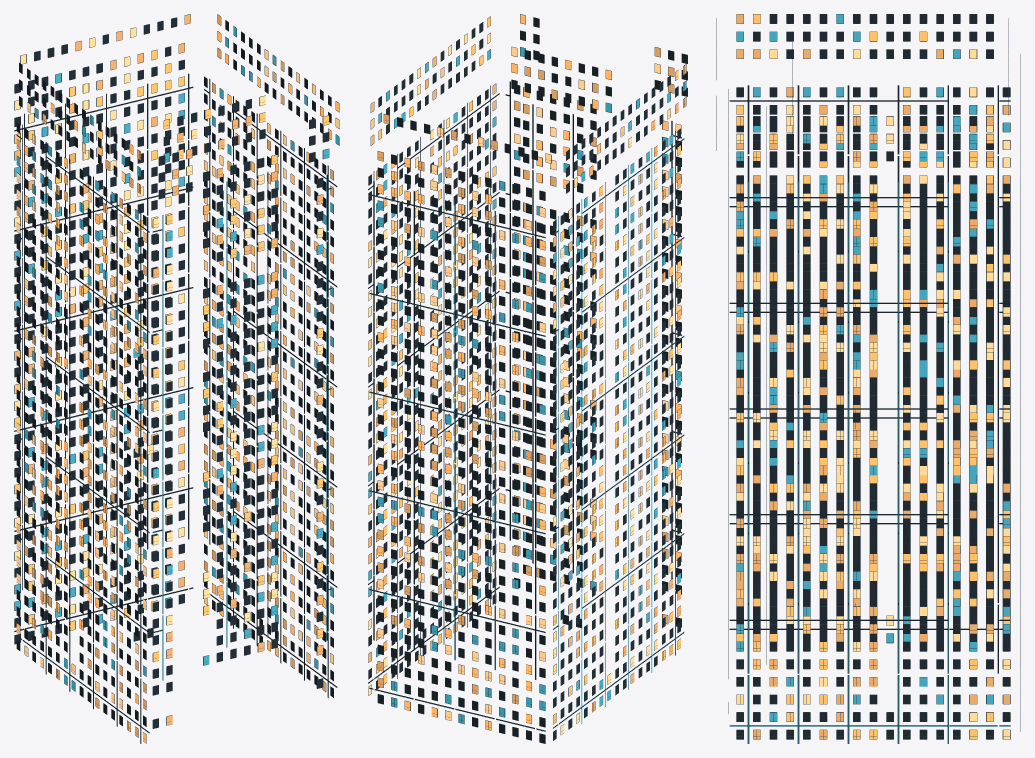
The model's file is facade-building-160.glb.
The picture shows the model from 3 angles, left to right: view 1: azimuth 30°, elevation 25°; view 2: azimuth 150°, elevation 25°; view 3: azimuth 270°, elevation 25°; orthographic projection. The views are drawn at different scales.
Parts seen in each view (by area): view 1: Facade fittings / building-160; view 2: Facade fittings / building-160; view 3: Facade fittings / building-160.
Part boxes in pixels (x1=…): Facade fittings / building-160: x1=14, y1=14, x2=339, y2=743; Facade fittings / building-160: x1=368, y1=14, x2=687, y2=743; Facade fittings / building-160: x1=716, y1=14, x2=1020, y2=743.
Bounding box in the file's own units: 52.31 × 150 × 65.89.
